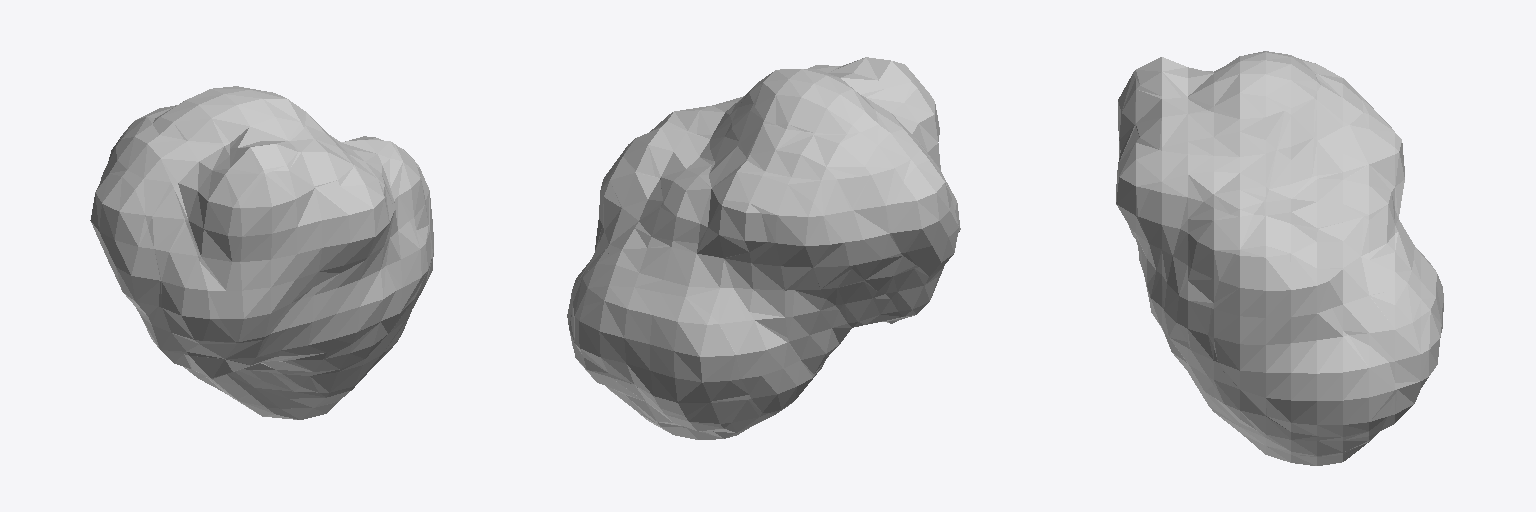
File: 1o98_cms.obj
3 renders of one model, left to right at view 1: azimuth 30°, elevation 25°; view 2: azimuth 150°, elevation 25°; view 3: azimuth 270°, elevation 25°, orthographic.
Bounding box in the file's own units: 73.6 × 75.65 × 63.65.